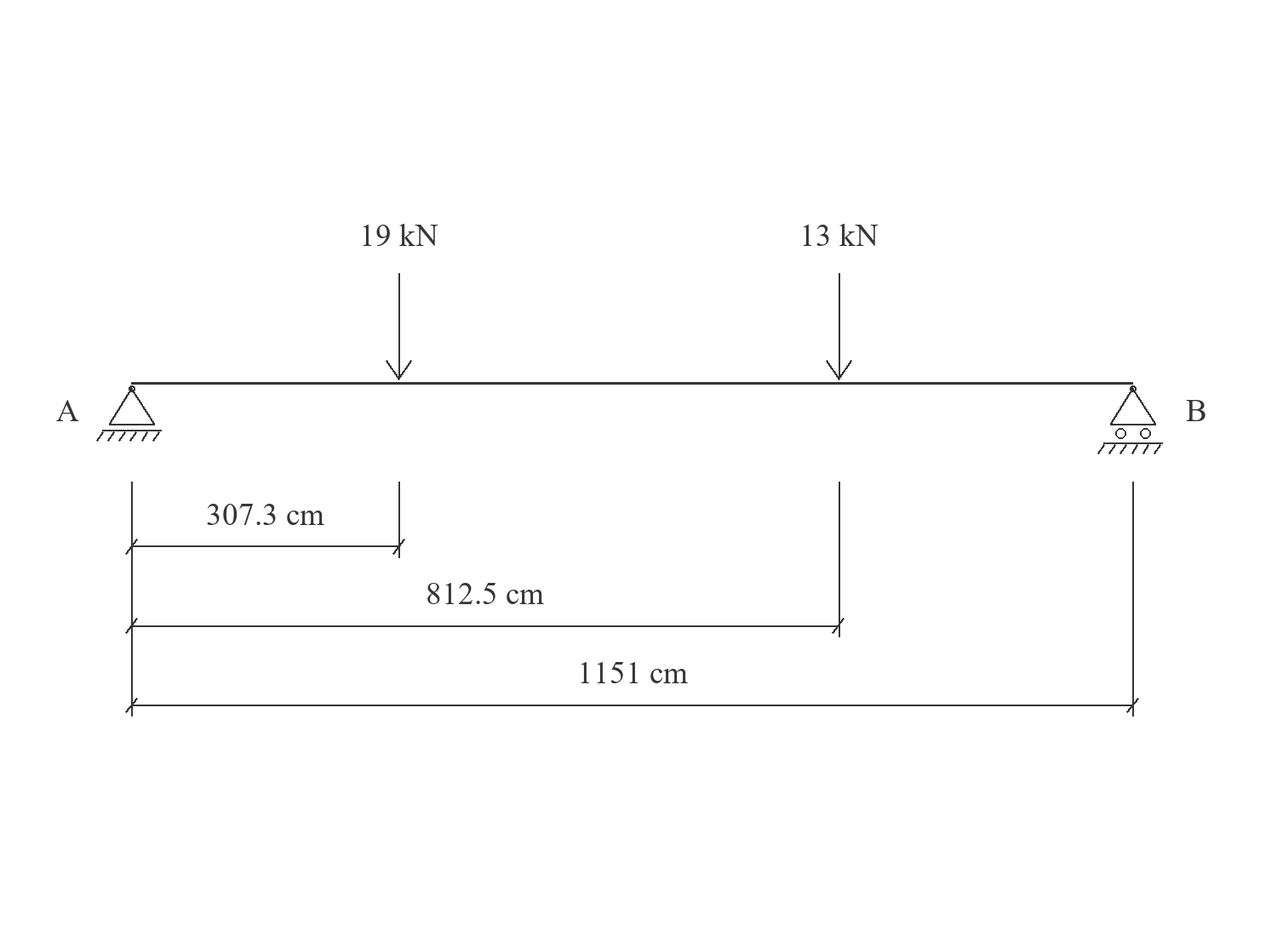pin_support: (96, 385, 162, 442)
point_load: (386, 273, 412, 380), (826, 273, 852, 380)
roller_support: (1097, 385, 1163, 454)
